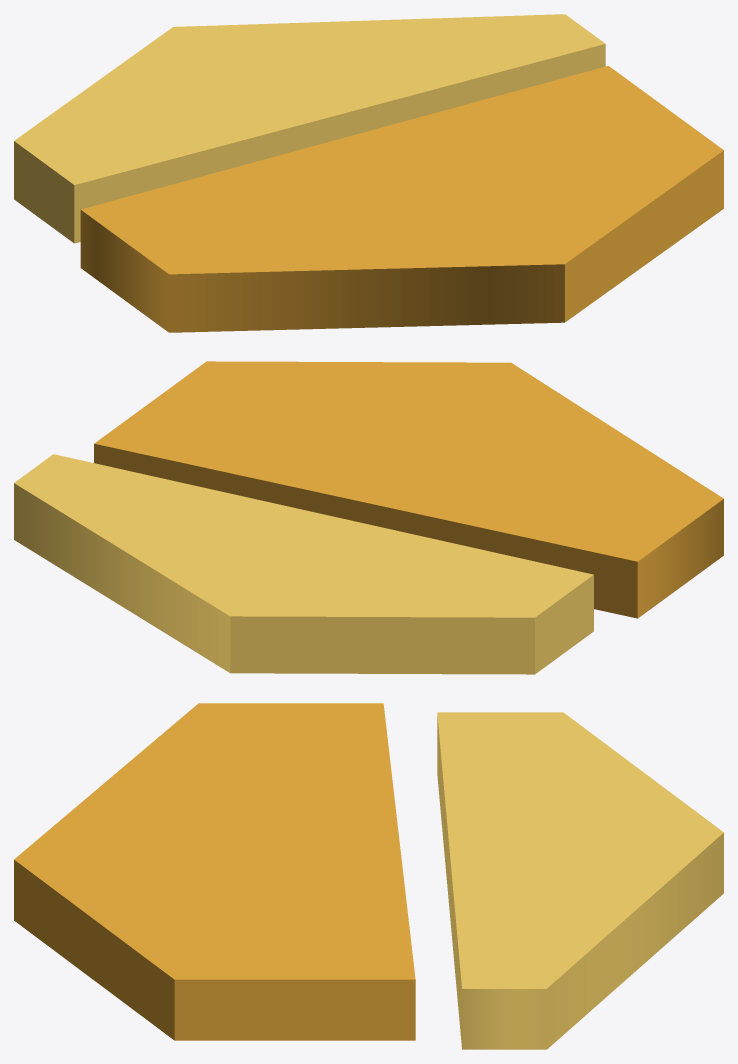
File: M_Farm_var1_1.fbx
3 renders of one model, top to bottom at view 1: azimuth 30°, elevation 25°; view 2: azimuth 150°, elevation 25°; view 3: azimuth 270°, elevation 25°, orthographic. The views are drawn at different scales.
Parts seen in each view (by area): view 1: M_Farm_var1_1; view 2: M_Farm_var1_1; view 3: M_Farm_var1_1.
Part boxes in pixels (left/top/right/bottom): M_Farm_var1_1: left=14, top=14, right=723, bottom=332; M_Farm_var1_1: left=14, top=361, right=723, bottom=674; M_Farm_var1_1: left=14, top=703, right=723, bottom=1049.
Size of the model in its own units: 1.47 by 0.1476 by 1.54.
